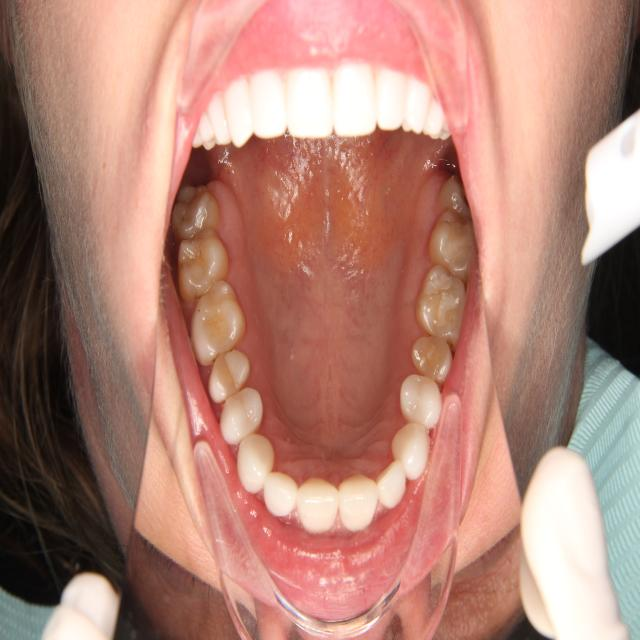tooth: (188, 276, 247, 372), (174, 229, 234, 312), (412, 262, 471, 344), (161, 178, 227, 245), (425, 204, 479, 282), (395, 366, 447, 438), (294, 468, 339, 540), (216, 383, 265, 448), (205, 345, 253, 409), (386, 419, 434, 483), (234, 428, 278, 497), (339, 467, 380, 540), (410, 325, 453, 390), (263, 466, 301, 522), (435, 168, 476, 219), (376, 456, 410, 513)
